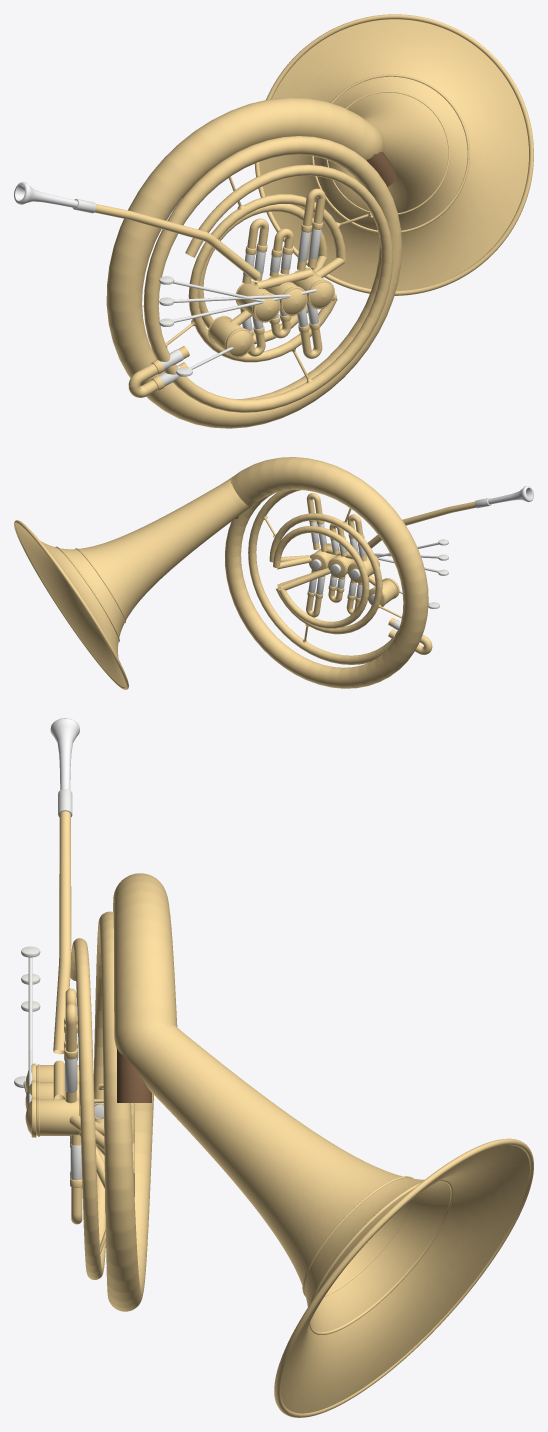
Rendered from frenchHorn.glb.
3 renders of one model, top to bottom at view 1: azimuth 30°, elevation 25°; view 2: azimuth 150°, elevation 25°; view 3: azimuth 270°, elevation 25°, orthographic. The views are drawn at different scales.
Parts seen in each view (by area): view 1: Body, valve3, valve2; view 2: Body; view 3: Body.
Part boxes in pixels (x1,y1,x2,y2): Body: [14, 14, 533, 428]; valve3: [159, 289, 316, 326]; valve2: [159, 294, 290, 305]; Body: [14, 457, 533, 689]; Body: [25, 718, 533, 1417].
Bounding box in the file's own units: 0.7866 × 0.3947 × 0.4505.
